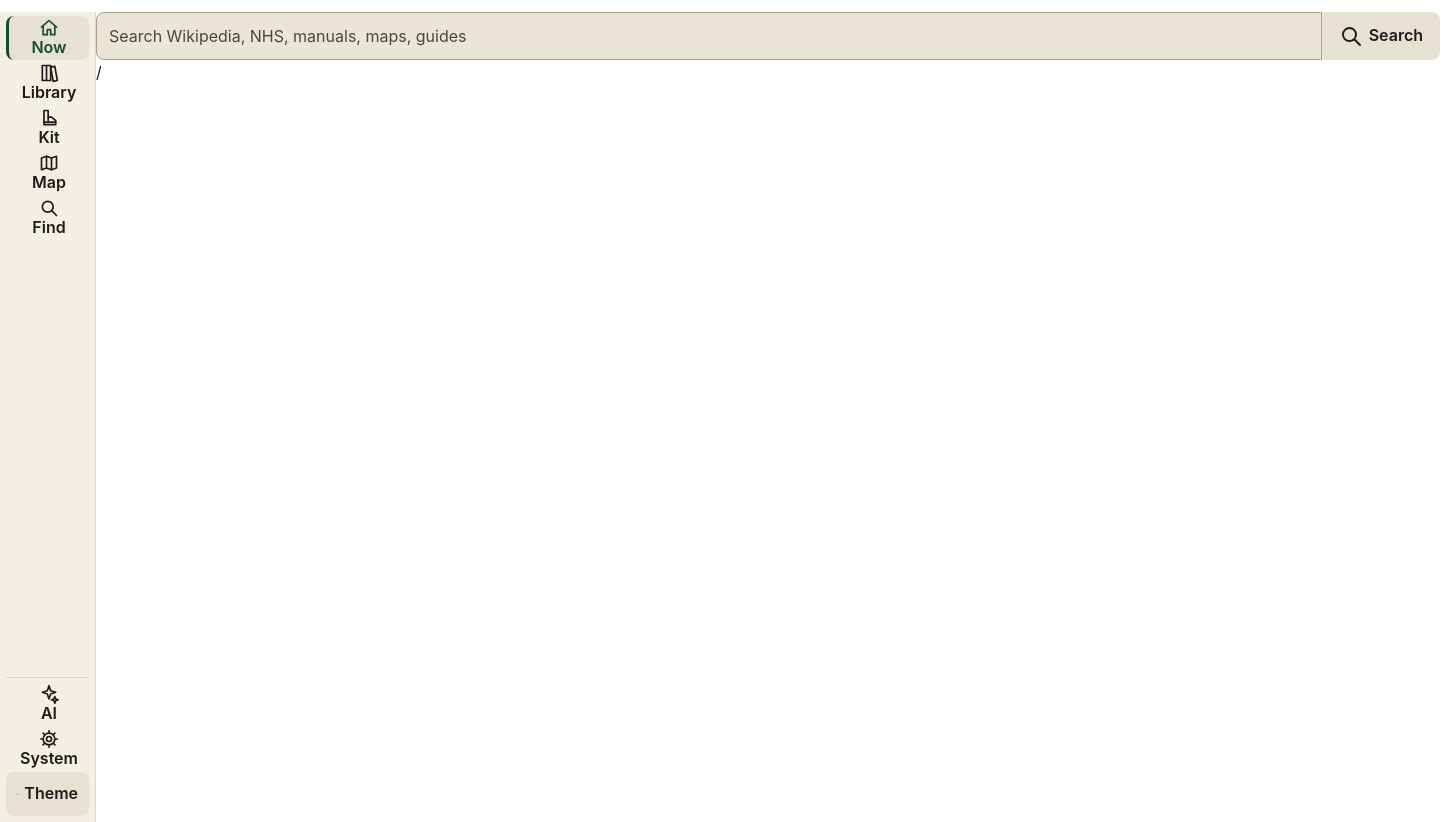
Test: SearchBar › Enter submits to /search?q=
The width and height of the screenshot is (1452, 822).
Type "st john's" into the dropdown labelled "Search" at (709, 36), box [96,12,1322,60]
Then press Enter
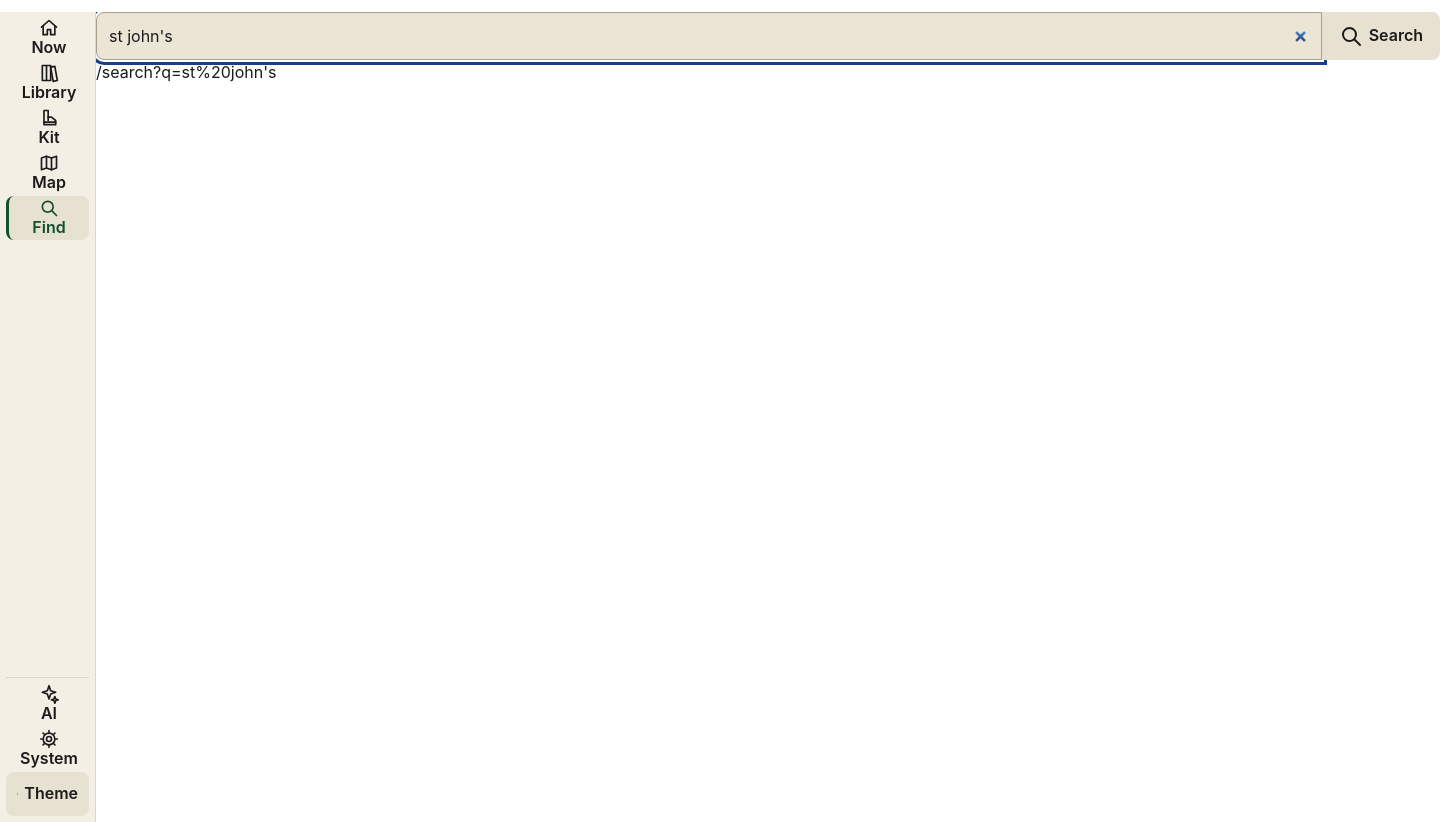
Result: the text with test id "where" reads "/search?q=st%20john's" at [96,62,276,82]
